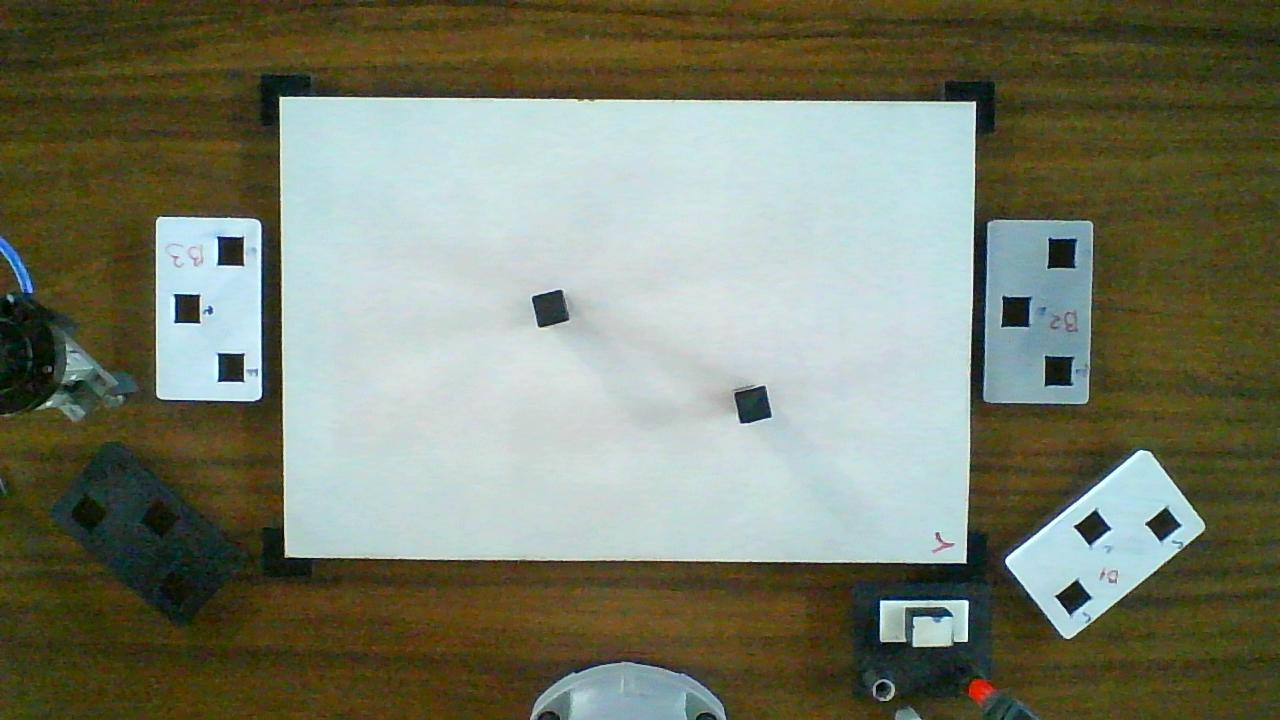peca_preta: (735, 387, 771, 423), (534, 291, 568, 327)
